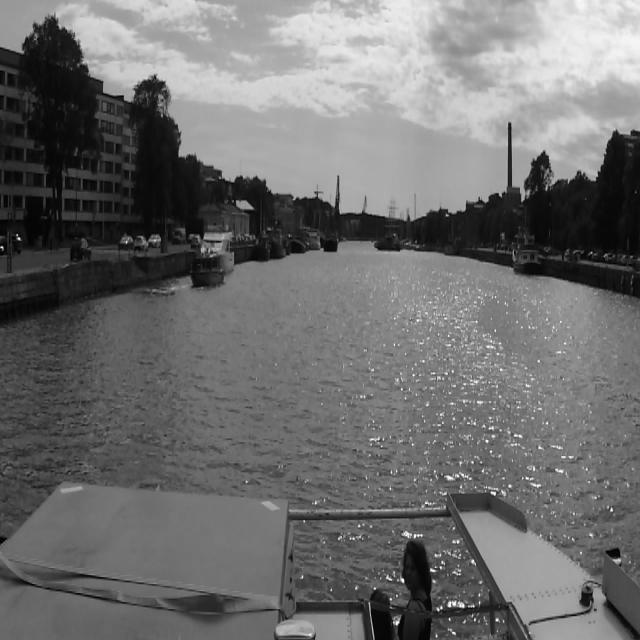ship: (200, 221, 236, 273), (189, 243, 227, 288), (512, 240, 538, 276), (267, 220, 287, 260), (384, 196, 400, 239), (372, 234, 404, 254), (288, 228, 306, 254), (256, 231, 270, 263), (324, 224, 338, 254), (308, 228, 321, 252)
